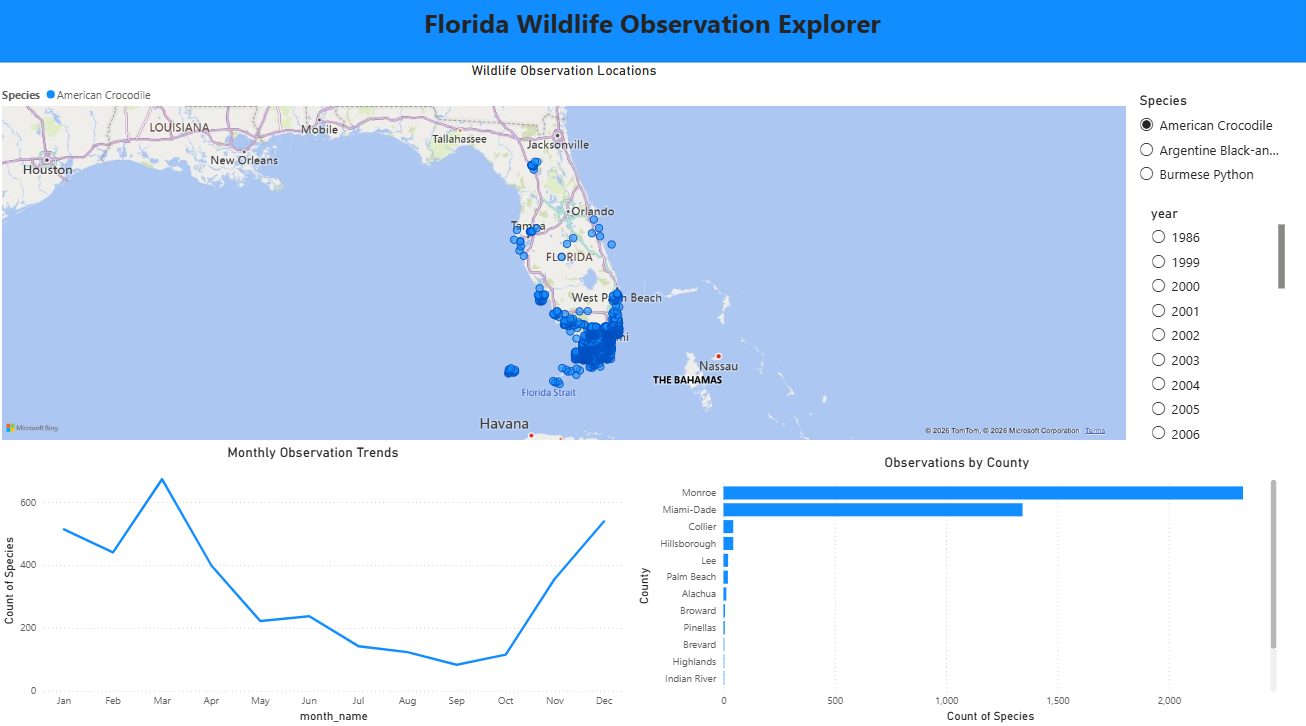

The dashboard page shown, as its layout file describes it:
{"tool":"powerbi","page":{"name":"Page 1","canvas":[1600,900],"ordinal":0},"visuals":[{"type":"map","title":"Wildlife Observation Locations","fields":{"Y":["wildlife_observations.latitude"],"X":["wildlife_observations.longitude"],"Series":["wildlife_observations.common_name"]},"box":[0,87.5,1384.2,466.6],"z":0},{"type":"listSlicer","fields":{"Values":["wildlife_observations.common_name"]},"box":[1391.1,123.5,200.7,118.4],"z":1000},{"type":"listSlicer","fields":{"Values":["wildlife_observations.year"]},"box":[1404.7,261.4,174.3,292],"z":2000},{"type":"shape","box":[0,0,1600.3,87.5],"z":2500},{"type":"lineChart","title":"Monthly Observation Trends","fields":{"Category":["wildlife_observations.month_name"],"Y":["CountNonNull(wildlife_observations.common_name)"]},"box":[0,554,770.2,346.5],"z":3000},{"type":"barChart","title":"Observations by County","fields":{"Category":["wildlife_observations.place_county_name"],"Y":["CountNonNull(wildlife_observations.common_name)"]},"box":[777,566,792.5,334.5],"z":4000},{"type":"textbox","box":[0,12,1600.3,75.5],"z":6000}]}

Visuals, with their boxes in screenshot pixels (x1, y1, x2, y2), scaled from the page's 1600x900 canvas onto the 1306x726 screenshot:
"Wildlife Observation Locations" map: 0 71 1130 447
listSlicer - wildlife_observations.common_name: 1135 100 1299 195
listSlicer - wildlife_observations.year: 1147 211 1289 446
shape: 0 0 1305 71
"Monthly Observation Trends" lineChart: 0 447 629 725
"Observations by County" barChart: 634 457 1281 725
textbox: 0 10 1305 71
